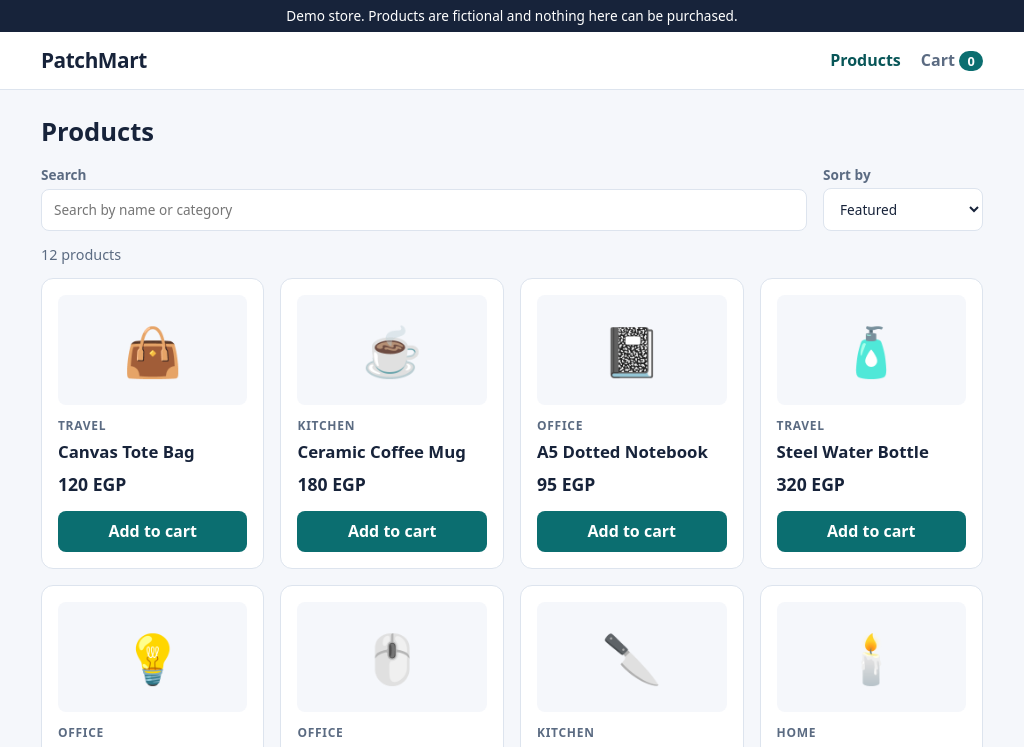
Test: cart page › changes the quantity with the plus and minus buttons
Click the button "Add to cart" below "Ceramic Coffee Mug". click: {"x": 392, "y": 532}
box: [298,511,487,552]
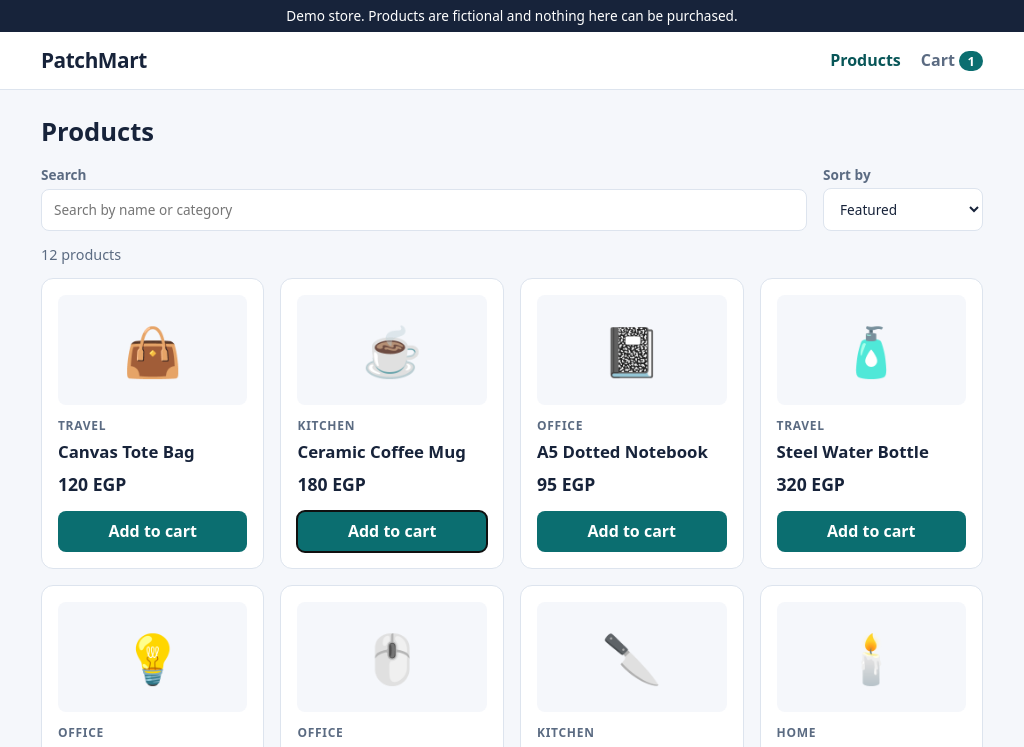
Click the link "Cart 1". click: {"x": 952, "y": 60}
box: [921,49,983,71]
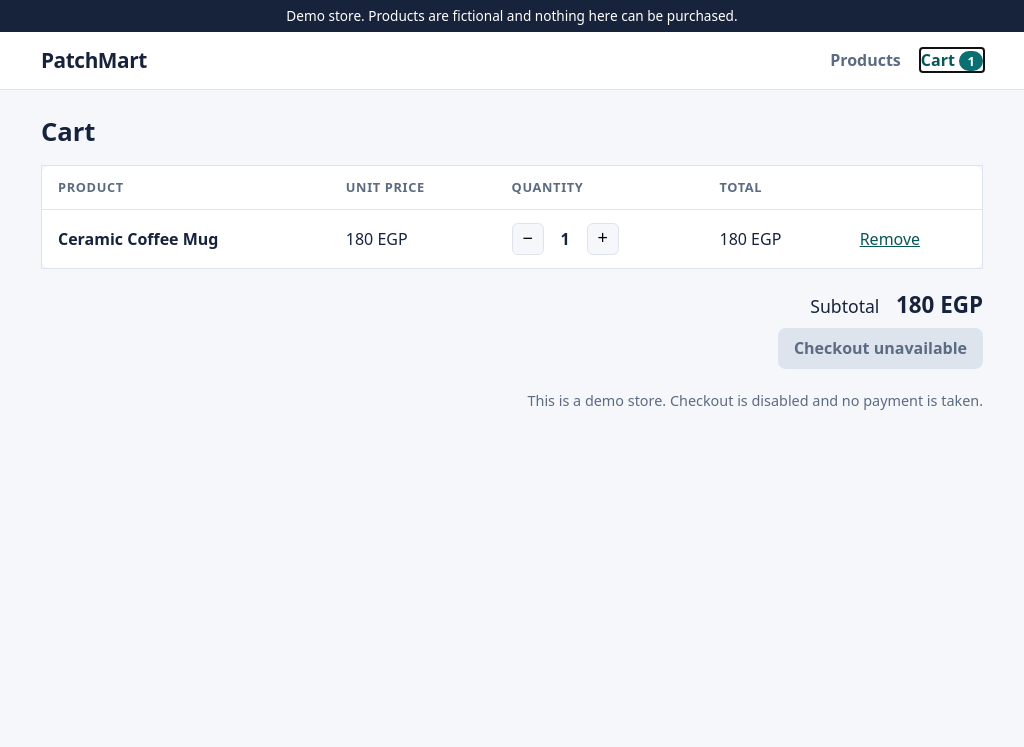
Click the button named "Increase quantity of Ceramic Coffee Mug". click: {"x": 603, "y": 239}
box: [587,223,619,255]
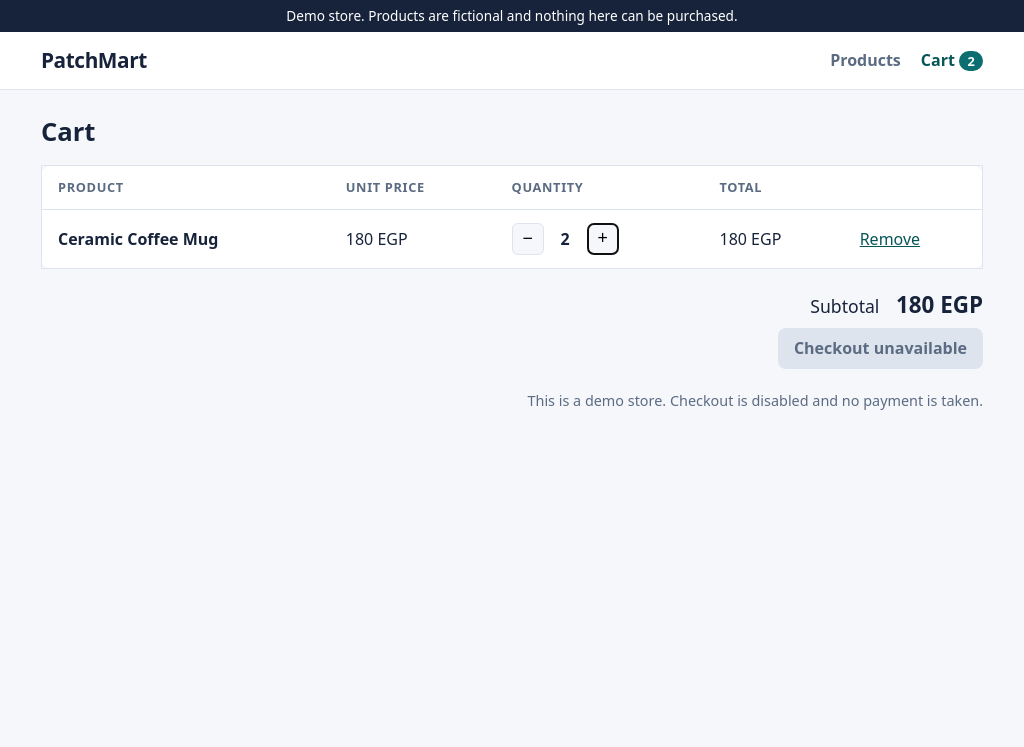
Result: the 1st cell "180 EGP" is shown at [330,210,496,268]
Result: the text named "Quantity of Ceramic Coffee Mug" reads "2" at [561,228,570,250]
Result: the text with test id "cart-count" reads "2" at [967,52,975,70]
Click the button named "Decrease quantity of Ceramic Coffee Mug". click: {"x": 528, "y": 239}
box: [512,223,544,255]
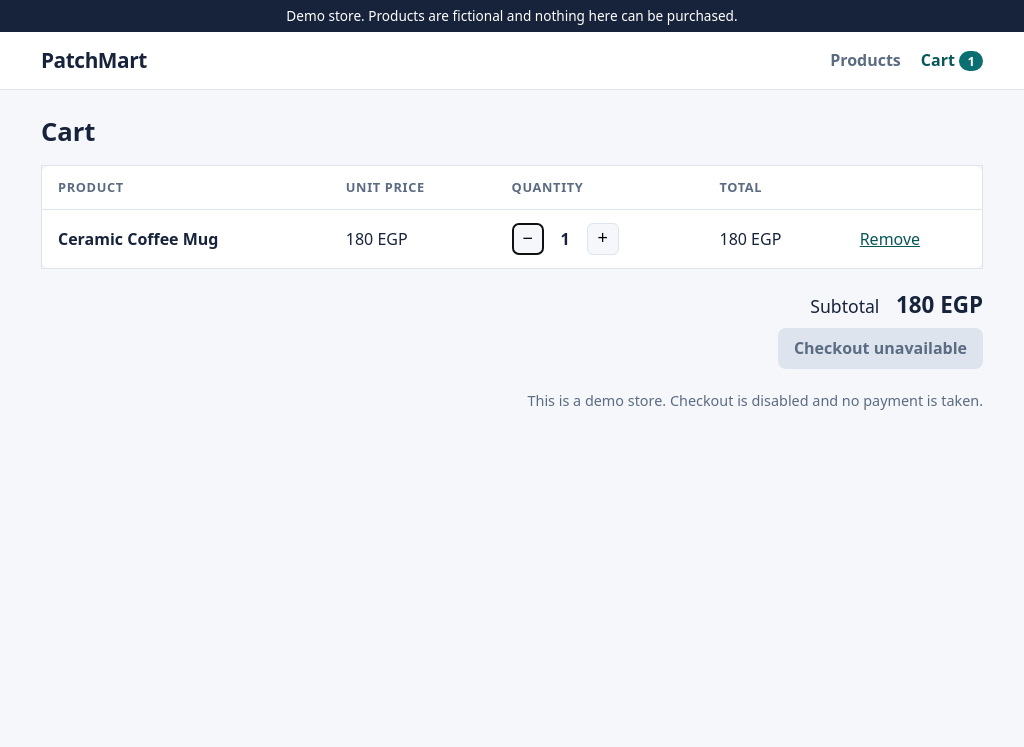
Result: the 1st cell "180 EGP" is shown at [330,210,496,268]
Result: the text named "Quantity of Ceramic Coffee Mug" reads "1" at [561,228,570,250]
